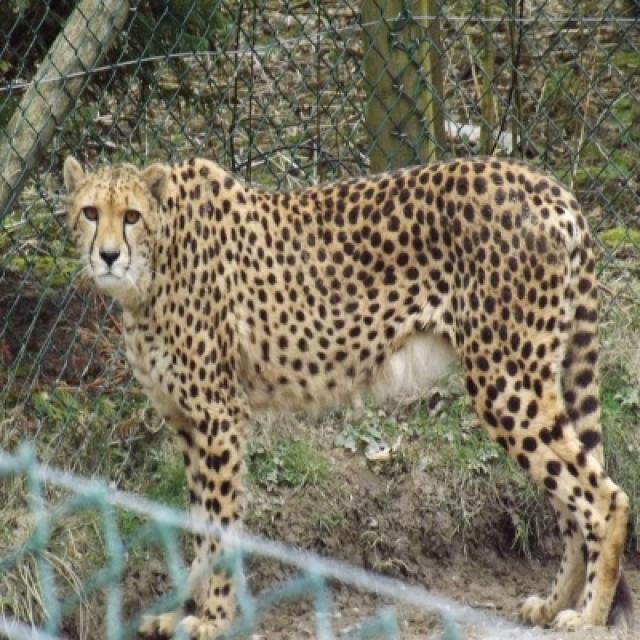Cheetah: (61, 157, 630, 632)
